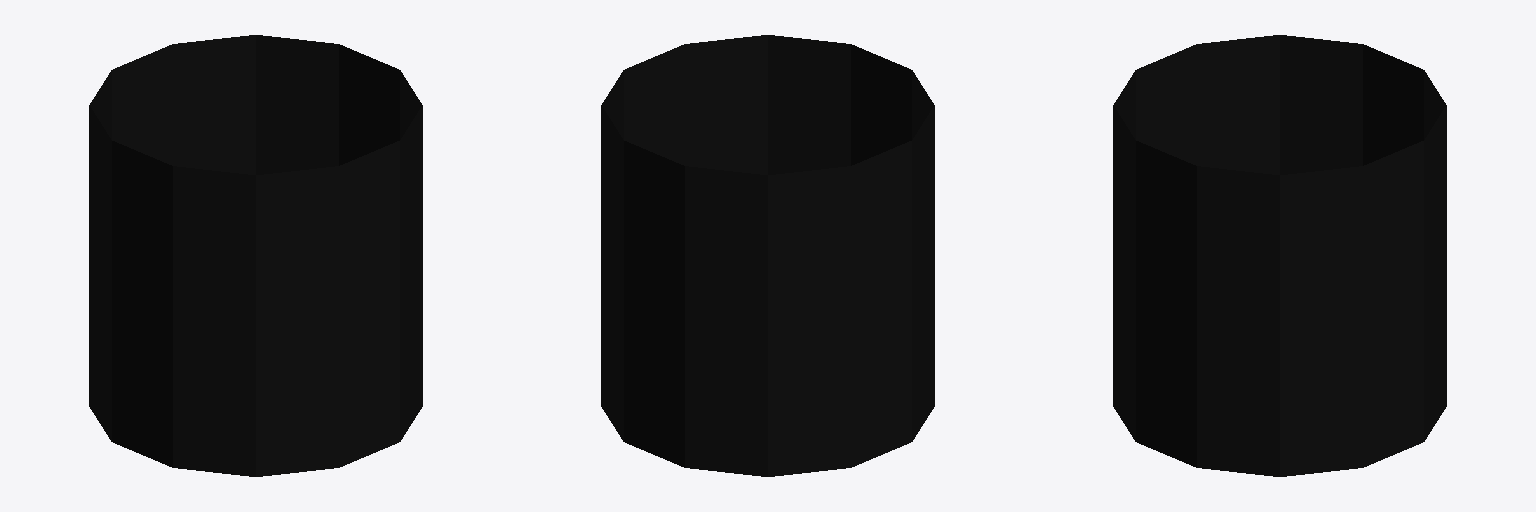
3 renders of one model, left to right at view 1: azimuth 30°, elevation 25°; view 2: azimuth 150°, elevation 25°; view 3: azimuth 270°, elevation 25°, orthographic.
Parts seen in each view (by area): view 1: group[number redacted]; view 2: group[number redacted]; view 3: group[number redacted].
Boxes of the visible parts, <box> form: group[number redacted]: <box>89,35,422,476</box>; group[number redacted]: <box>601,35,934,476</box>; group[number redacted]: <box>1113,35,1446,476</box>.
Size of the model in its own units: 0.1 by 0.1 by 0.1.